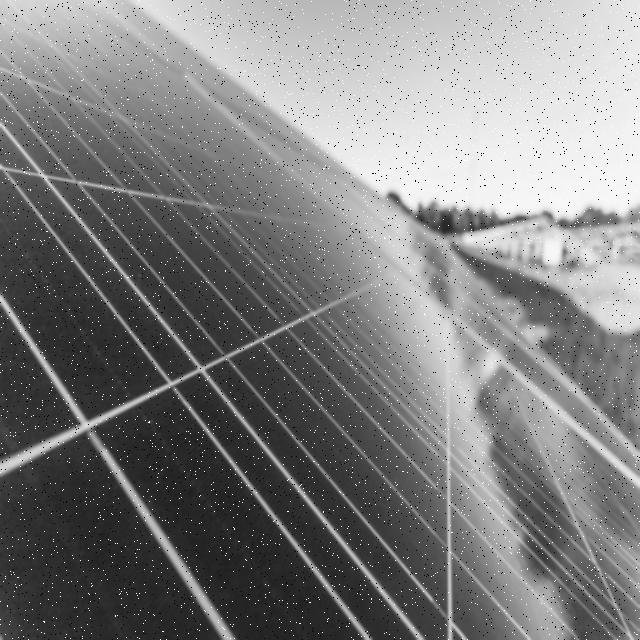clean: (7, 3, 633, 634)
